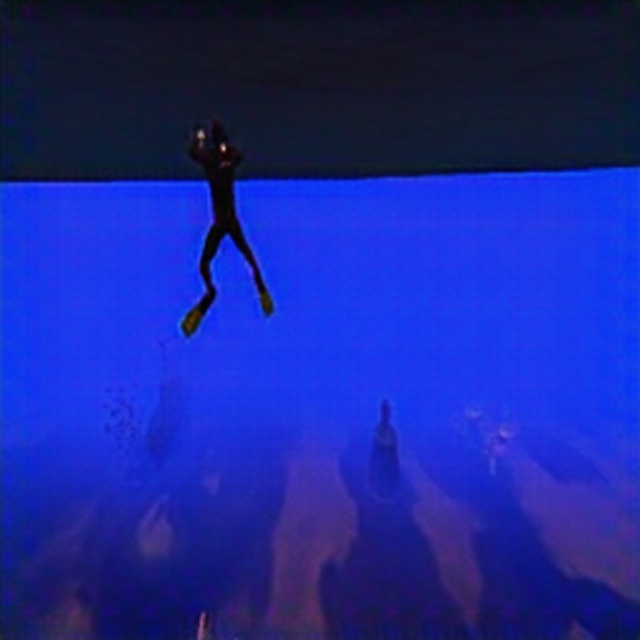diver: (185, 118, 274, 319)
